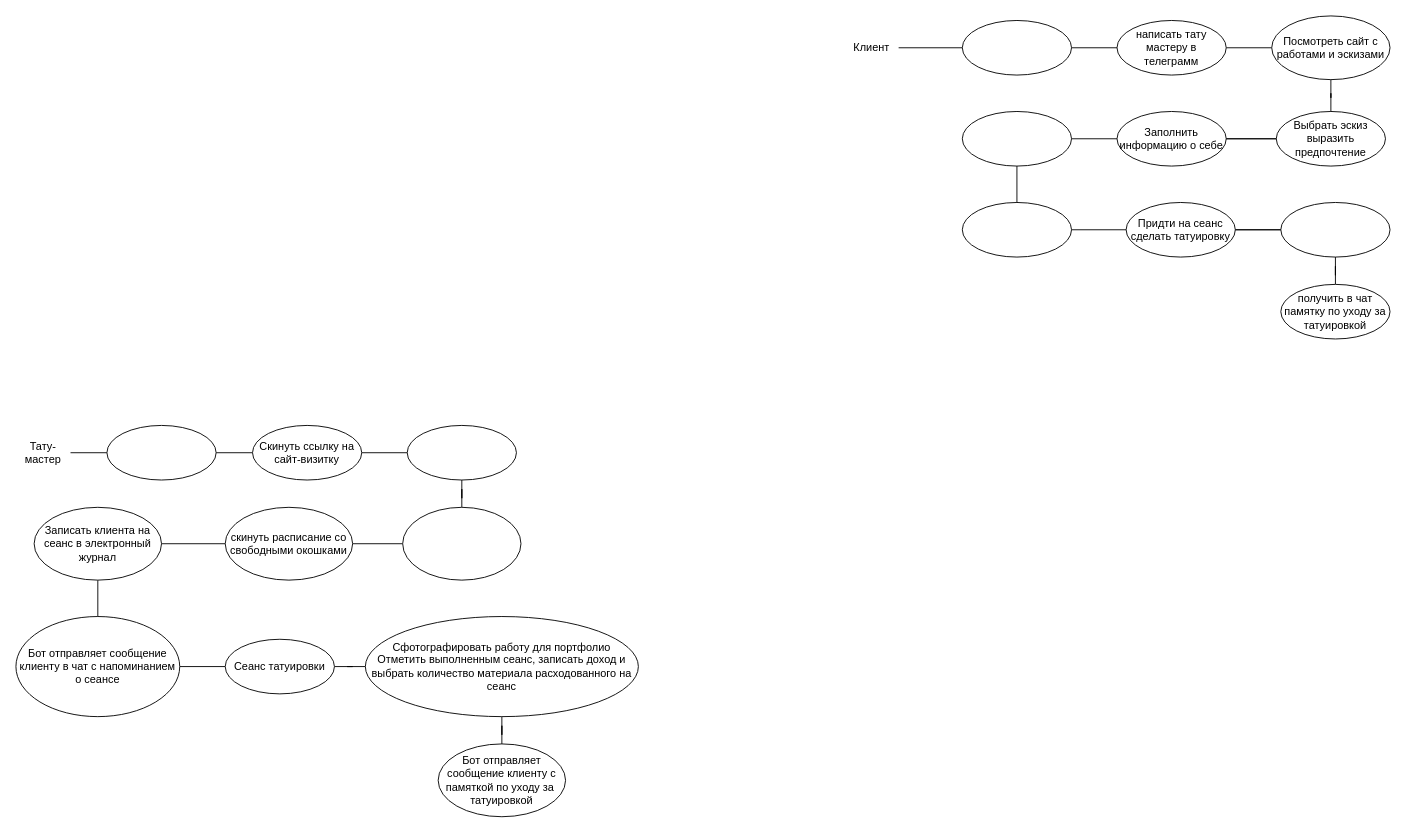
The diagram is 1406 pixels wide and 833 high, and some of its shapes have lost their labels. The centre of each missing label's shape, as x and y in pixels:
Выбрать дату для сеанса: the point at 1016,229
Желание набить татуировку: the point at 1016,47
общение с потенциальным клиентом: the point at 161,452
Оплатить татуировку: the point at 1335,229
проработать запрос клиента: the point at 461,452
согласование эскиза: the point at 1016,138
Создать и заполнить карточку клиента с информацией о нем: the point at 461,543
